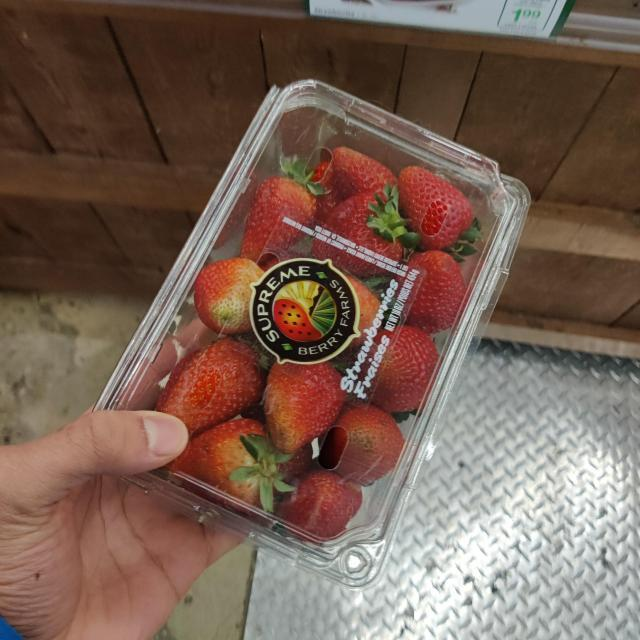Strawberries: (82, 64, 525, 586)
